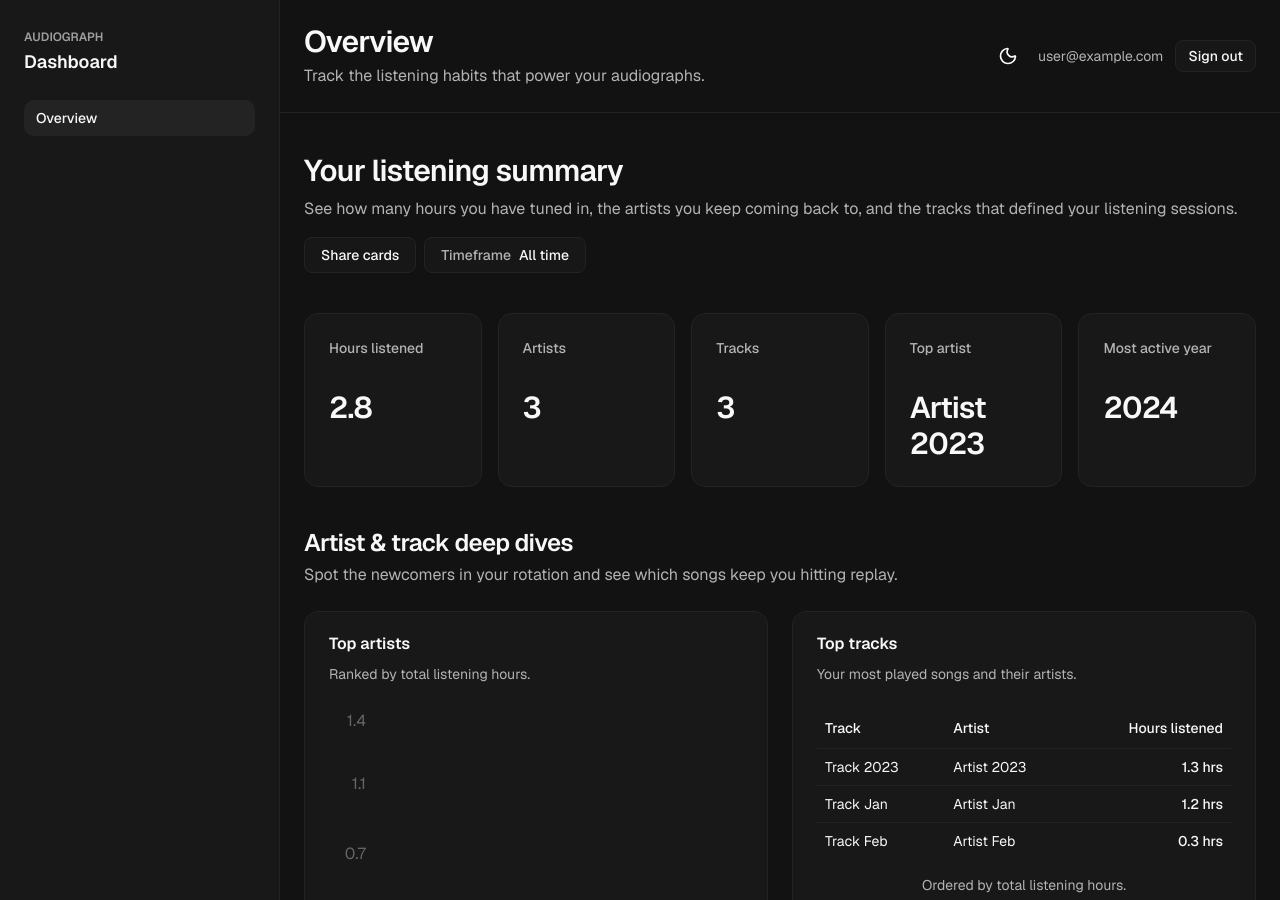
Test: Dashboard page › filters dashboard metrics when timeframe changes
This screenshot has width=1280, height=900.
Check: the element with test id "dashboard-summary" is shown, box left=304, top=313, right=1256, bottom=487
Check: the text "Top artist" is shown, box left=910, top=339, right=971, bottom=357
Click the button with aria-label "select timeframe": (505, 255) left=424, top=237, right=586, bottom=273
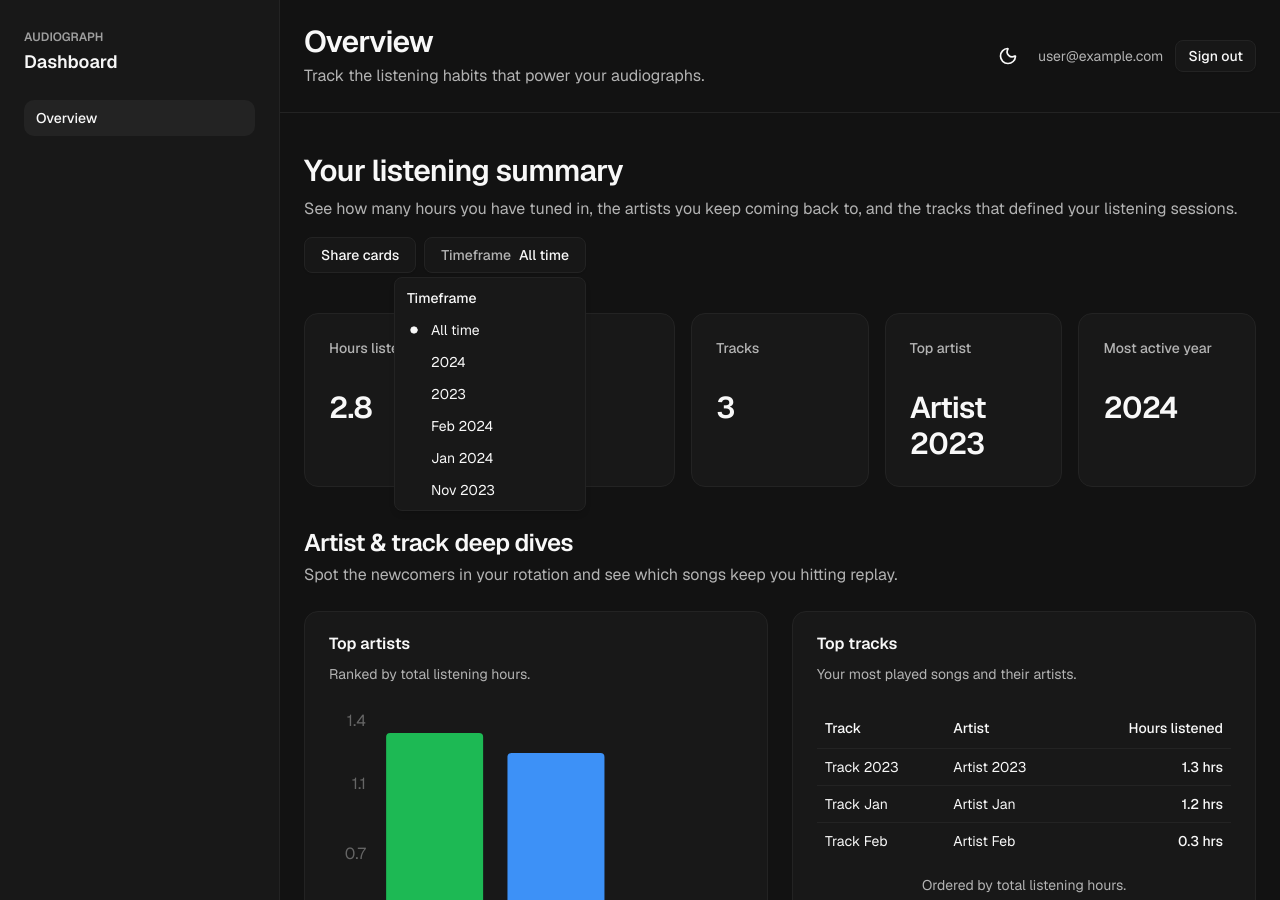
Click the menu item "Jan 2024": (462, 458) left=431, top=449, right=493, bottom=467
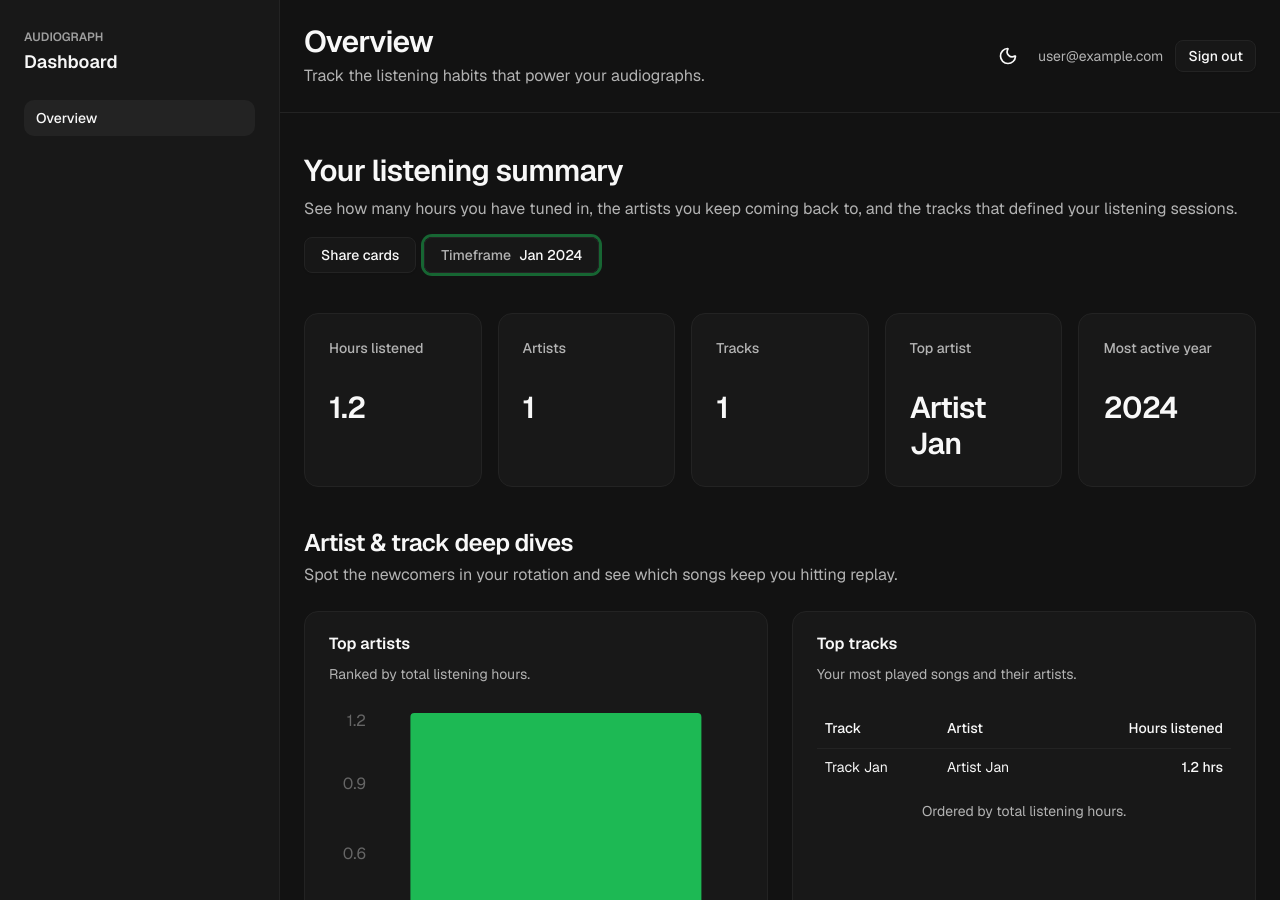
Check: the text "Artist Jan" is shown, box left=910, top=388, right=986, bottom=463
Check: the button with aria-label "select timeframe" shows "Jan 2024", box left=424, top=237, right=599, bottom=273
Check: the text "Track 2023" is gone
